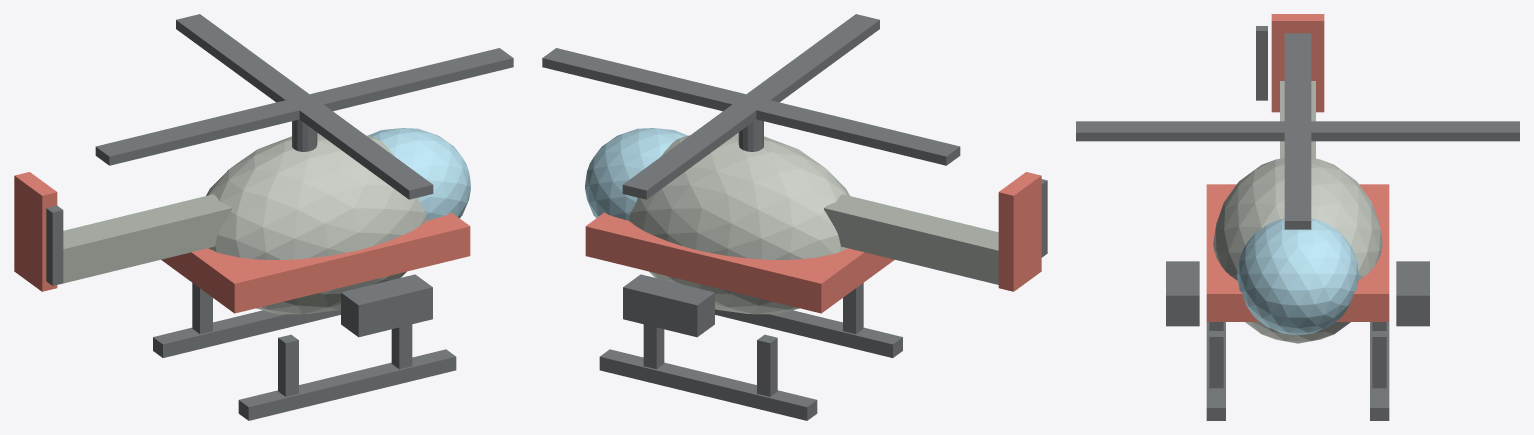
The model's file is heli_red.glb.
3 renders of one model, left to right at view 1: azimuth 30°, elevation 25°; view 2: azimuth 150°, elevation 25°; view 3: azimuth 270°, elevation 25°, orthographic. The views are drawn at different scales.
Visible parts, largest first — view 1: part00, part02, part07, part03, part08, part09, part01, part15, part04, part12, part05, part11 (+3 smaller); view 2: part00, part02, part07, part03, part08, part12, part01, part04, part16, part09, part14, part13 (+3 smaller); view 3: part01, part00, part08, part02, part07, part04, part15, part16, part09, part12, part05, part10 (+2 smaller).
Boxes of the visible parts, x1,y1,x2,y2 form: part00: (206,133,426,314); part02: (161,212,470,313); part07: (95,48,513,165); part03: (57,194,231,284); part08: (176,14,433,199); part09: (238,349,456,420); part01: (368,128,470,220); part15: (341,274,432,337); part04: (14,172,57,291); part12: (153,309,340,357); part05: (46,205,63,285); part11: (278,334,298,396); part00: (629,133,849,314); part02: (585,212,894,313); part07: (542,48,960,165); part03: (824,194,998,284); part08: (622,14,879,199); part12: (599,349,817,420); part01: (585,128,687,220); part04: (998,172,1041,291); part16: (623,274,714,337); part09: (715,309,902,357); part14: (757,334,777,396); part13: (643,324,664,369); part01: (1237,218,1358,335); part00: (1213,158,1382,343); part08: (1076,121,1519,141); part02: (1206,184,1389,321); part07: (1284,33,1311,229); part04: (1271,14,1324,112); part15: (1166,261,1199,326); part16: (1396,261,1429,326); part09: (1206,322,1225,420); part12: (1370,322,1389,420); part05: (1256,26,1267,100); part10: (1209,331,1223,388).
Size of the model in its own units: 2.19 by 1.13 by 1.85.
